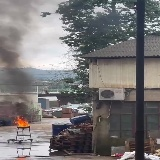fire: (14, 116, 29, 126)
